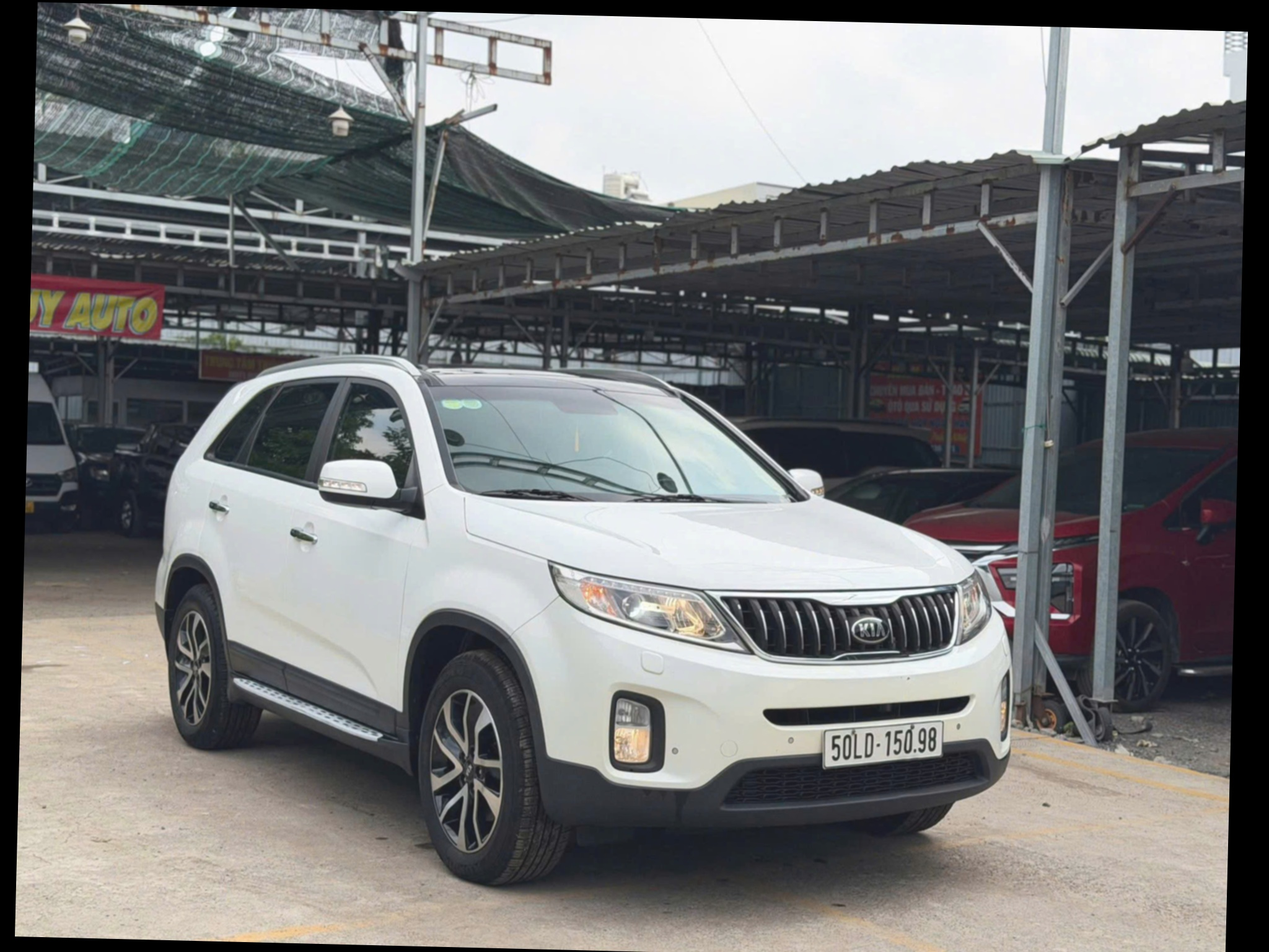Bien-so: (823, 717, 949, 769)
